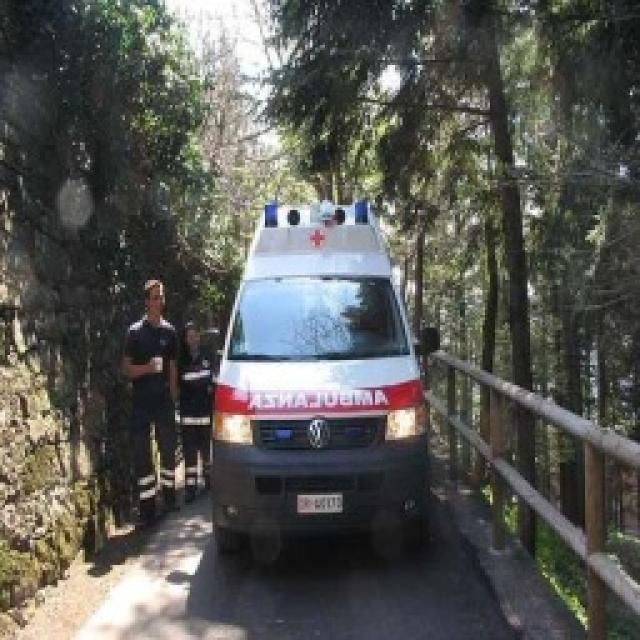emergency-vehicle: (211, 195, 434, 573)
